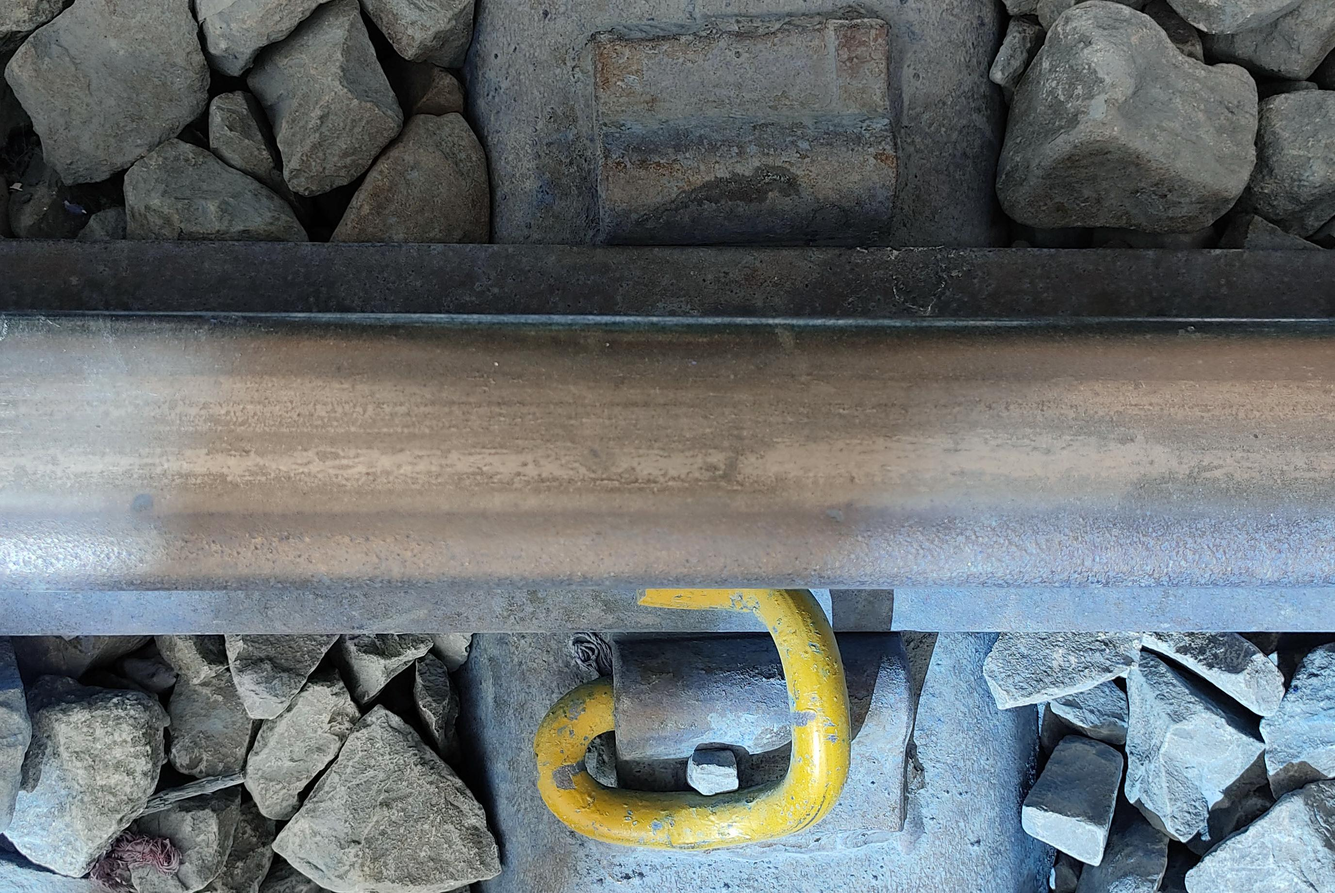Poor contact: (545, 564, 943, 885)
loss: (574, 8, 968, 248)
